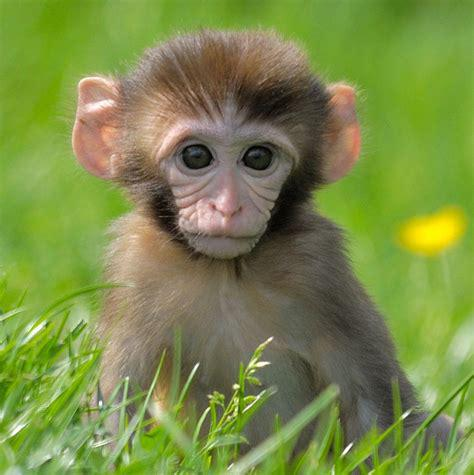monkey: (72, 32, 421, 439)
